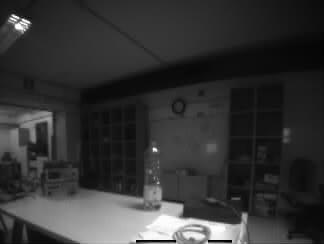Bottle: (143, 141, 162, 207)
